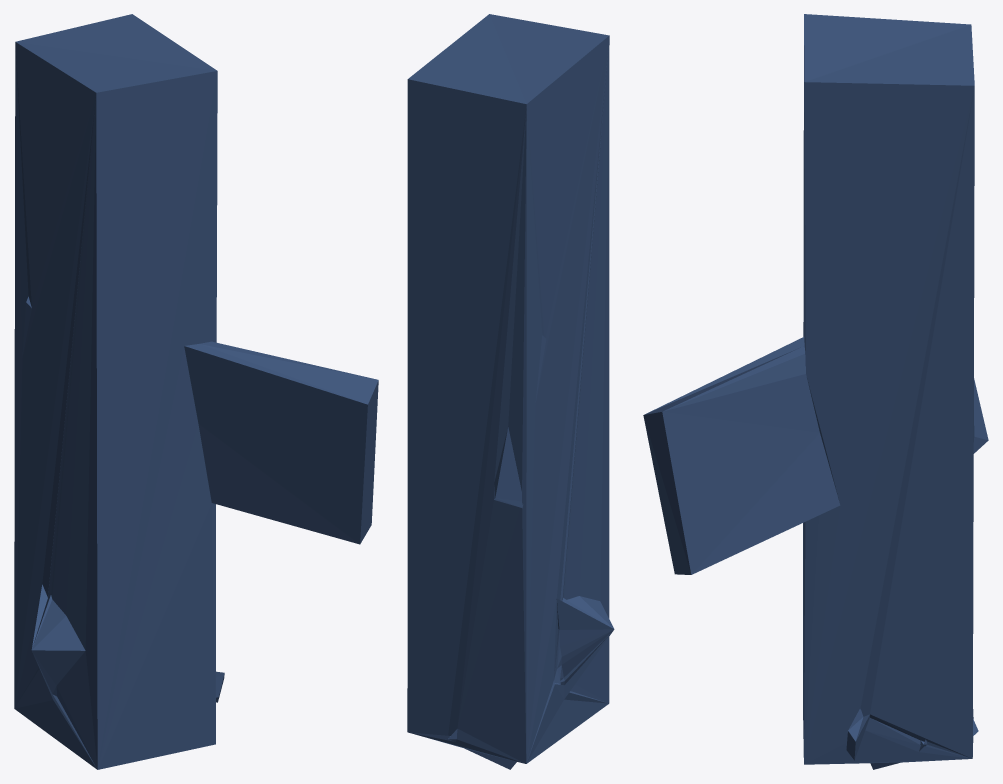
The picture shows the model from 3 angles, left to right: view 1: azimuth 30°, elevation 25°; view 2: azimuth 150°, elevation 25°; view 3: azimuth 270°, elevation 25°; orthographic projection. The views are drawn at different scales.
Parts seen in each view (by area): view 1: 178_Cube.738; view 2: 178_Cube.738; view 3: 178_Cube.738.
Boxes of the visible parts, x1=… form: 178_Cube.738: x1=14, y1=14, x2=378, y2=769; 178_Cube.738: x1=407, y1=14, x2=614, y2=769; 178_Cube.738: x1=643, y1=14, x2=988, y2=769.
Bounding box in the file's own units: 4.76 × 12.68 × 5.51.
